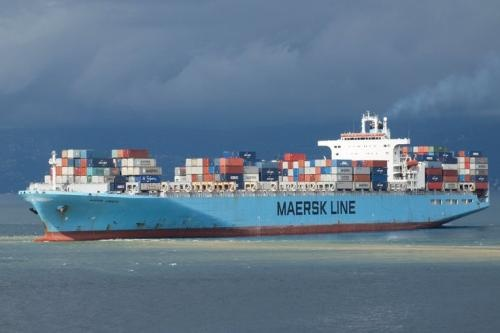Cargoship: (15, 108, 493, 240)
